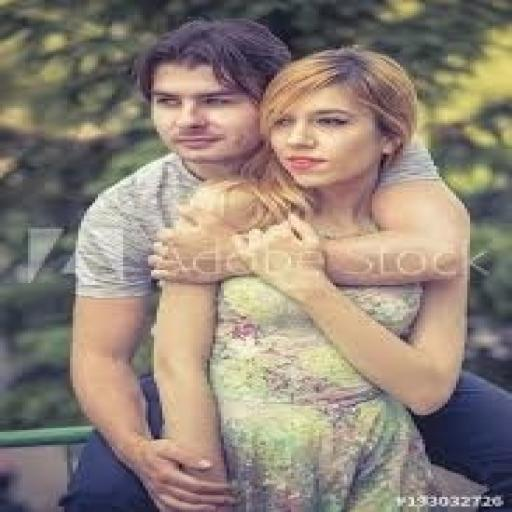hugging: (61, 17, 501, 510)
